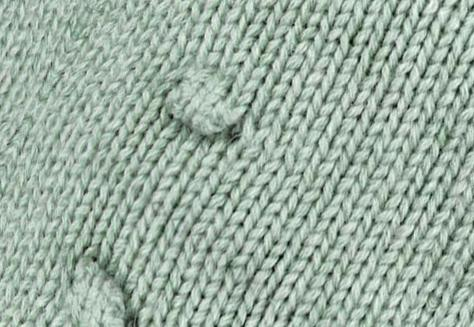knot: (156, 70, 249, 137), (58, 254, 132, 325)
